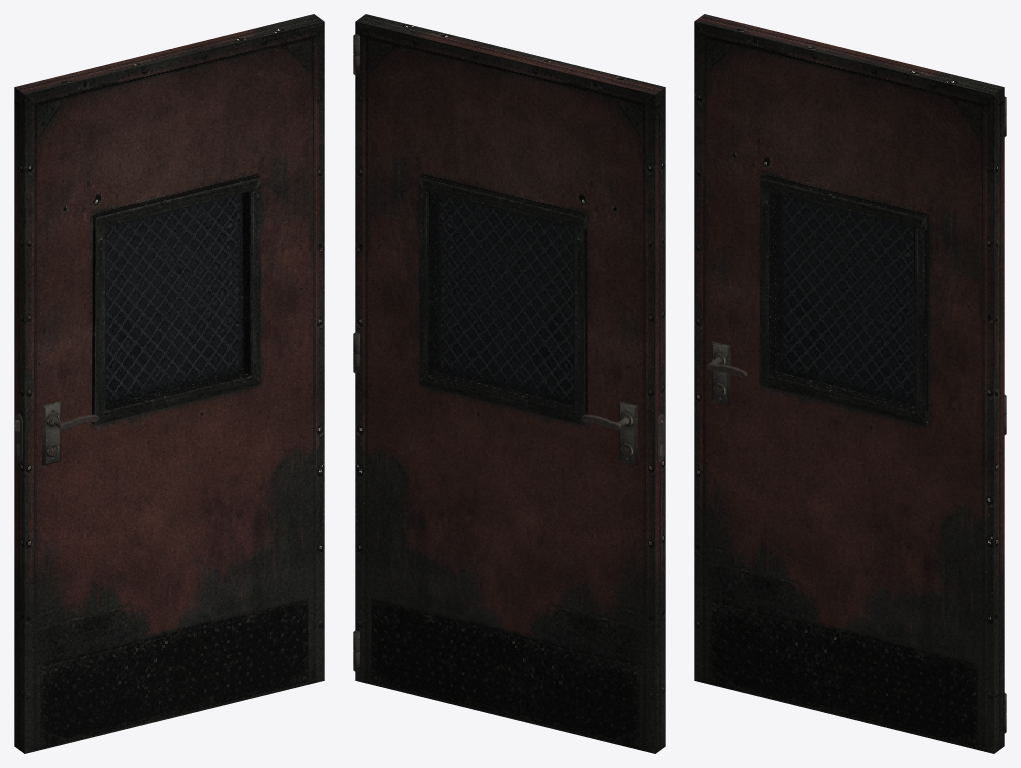
Rendered from door_4.glb.
3 views of the same model, side by side, from view 1: azimuth 30°, elevation 25°; view 2: azimuth 150°, elevation 25°; view 3: azimuth 330°, elevation 25° (orthographic).
Visible parts, largest first — view 1: door_4; view 2: door_4; view 3: door_4.
Boxes of the visible parts, x1,y1,x2,y2 form: door_4: (14, 14, 324, 753); door_4: (353, 14, 665, 753); door_4: (694, 14, 1006, 753).
Size of the model in its own units: 1.01 by 2.1 by 0.194.
4 materials, 4 textured.
